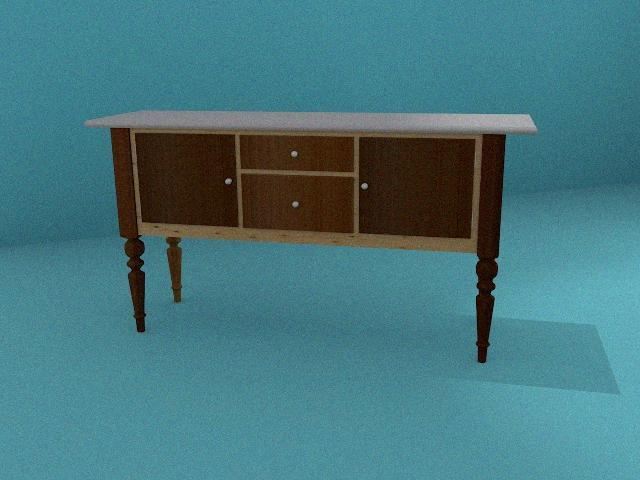cabinet_door: (358, 138, 472, 236), (139, 134, 236, 224), (242, 175, 354, 230), (240, 136, 354, 170)
handle: (219, 173, 237, 190), (287, 146, 302, 163), (290, 197, 303, 213), (360, 179, 374, 192)
